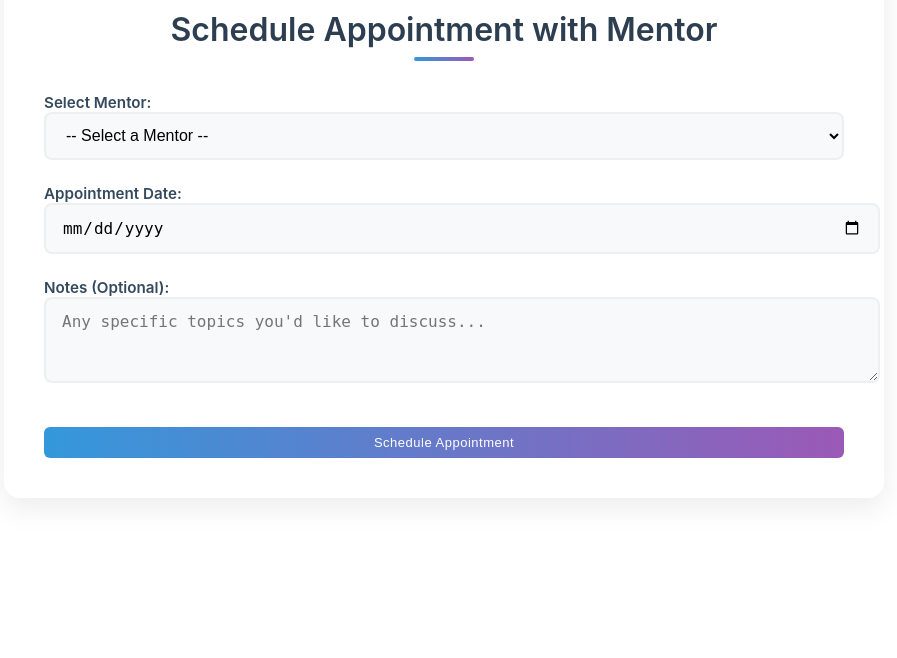
AppointmentScheduler Component › shows time slots after date is selected
The image size is (897, 658).
Type "2024-12-31" into the date field labelled "Appointment Date:" at (462, 228), box top-left (44, 203), bottom-right (880, 254)
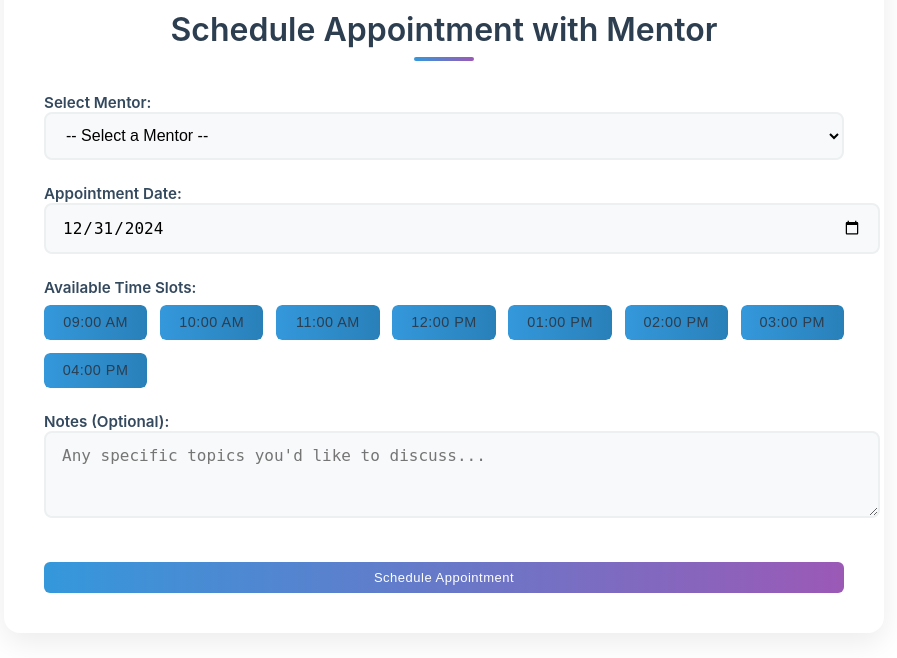
Check: the text "Available Time Slots:" is shown, box top-left (44, 278), bottom-right (196, 297)
Check: the button "09:00 AM" is shown, box top-left (44, 305), bottom-right (147, 340)
